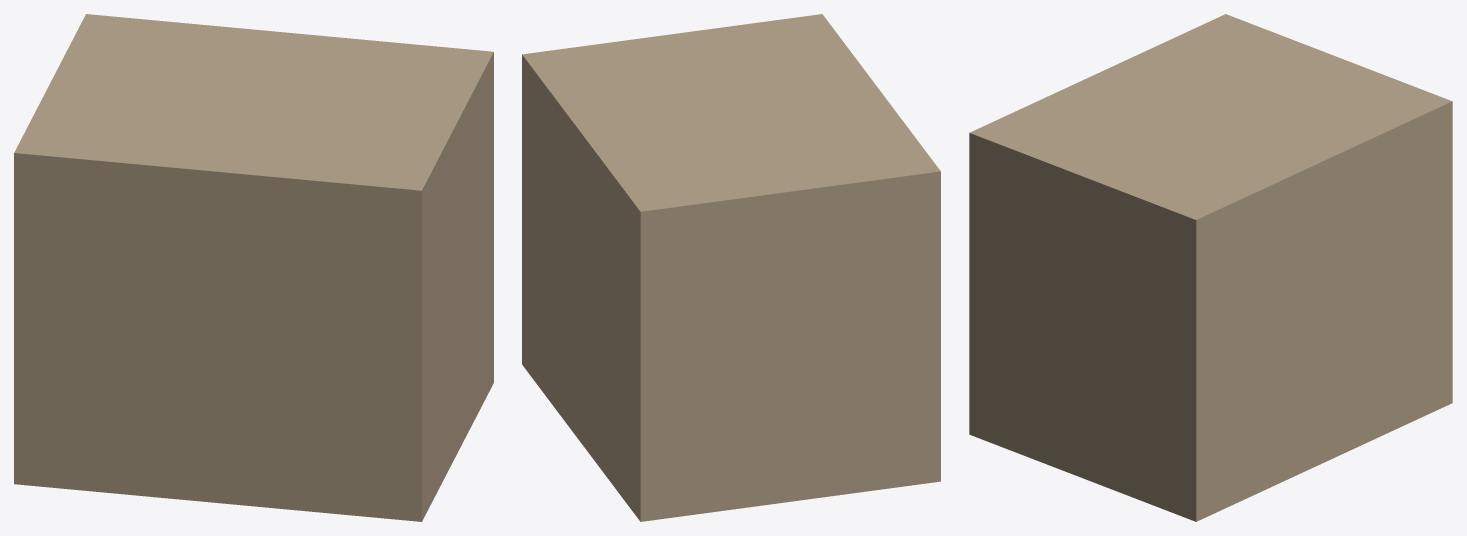
Rendered from bld_101374834.dae.
3 views of the same model, side by side, from view 1: azimuth 30°, elevation 25°; view 2: azimuth 150°, elevation 25°; view 3: azimuth 270°, elevation 25° (orthographic). The views are drawn at different scales.
Parts seen in each view (by area): view 1: bld_101374834; view 2: bld_101374834; view 3: bld_101374834.
Part boxes in pixels (x1,y1,x2,y2): bld_101374834: (14,14,493,521); bld_101374834: (522,14,940,521); bld_101374834: (969,14,1452,521).
Size of the model in its own units: 11.72 by 11.6 by 8.
